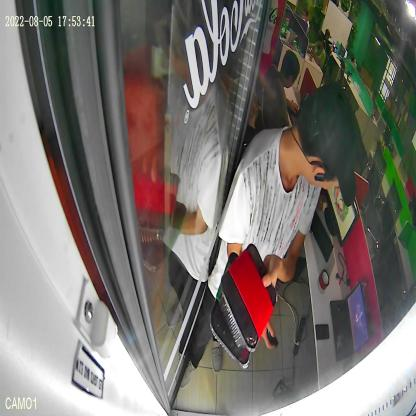green: (209, 251, 252, 371)
red: (219, 244, 278, 352)
